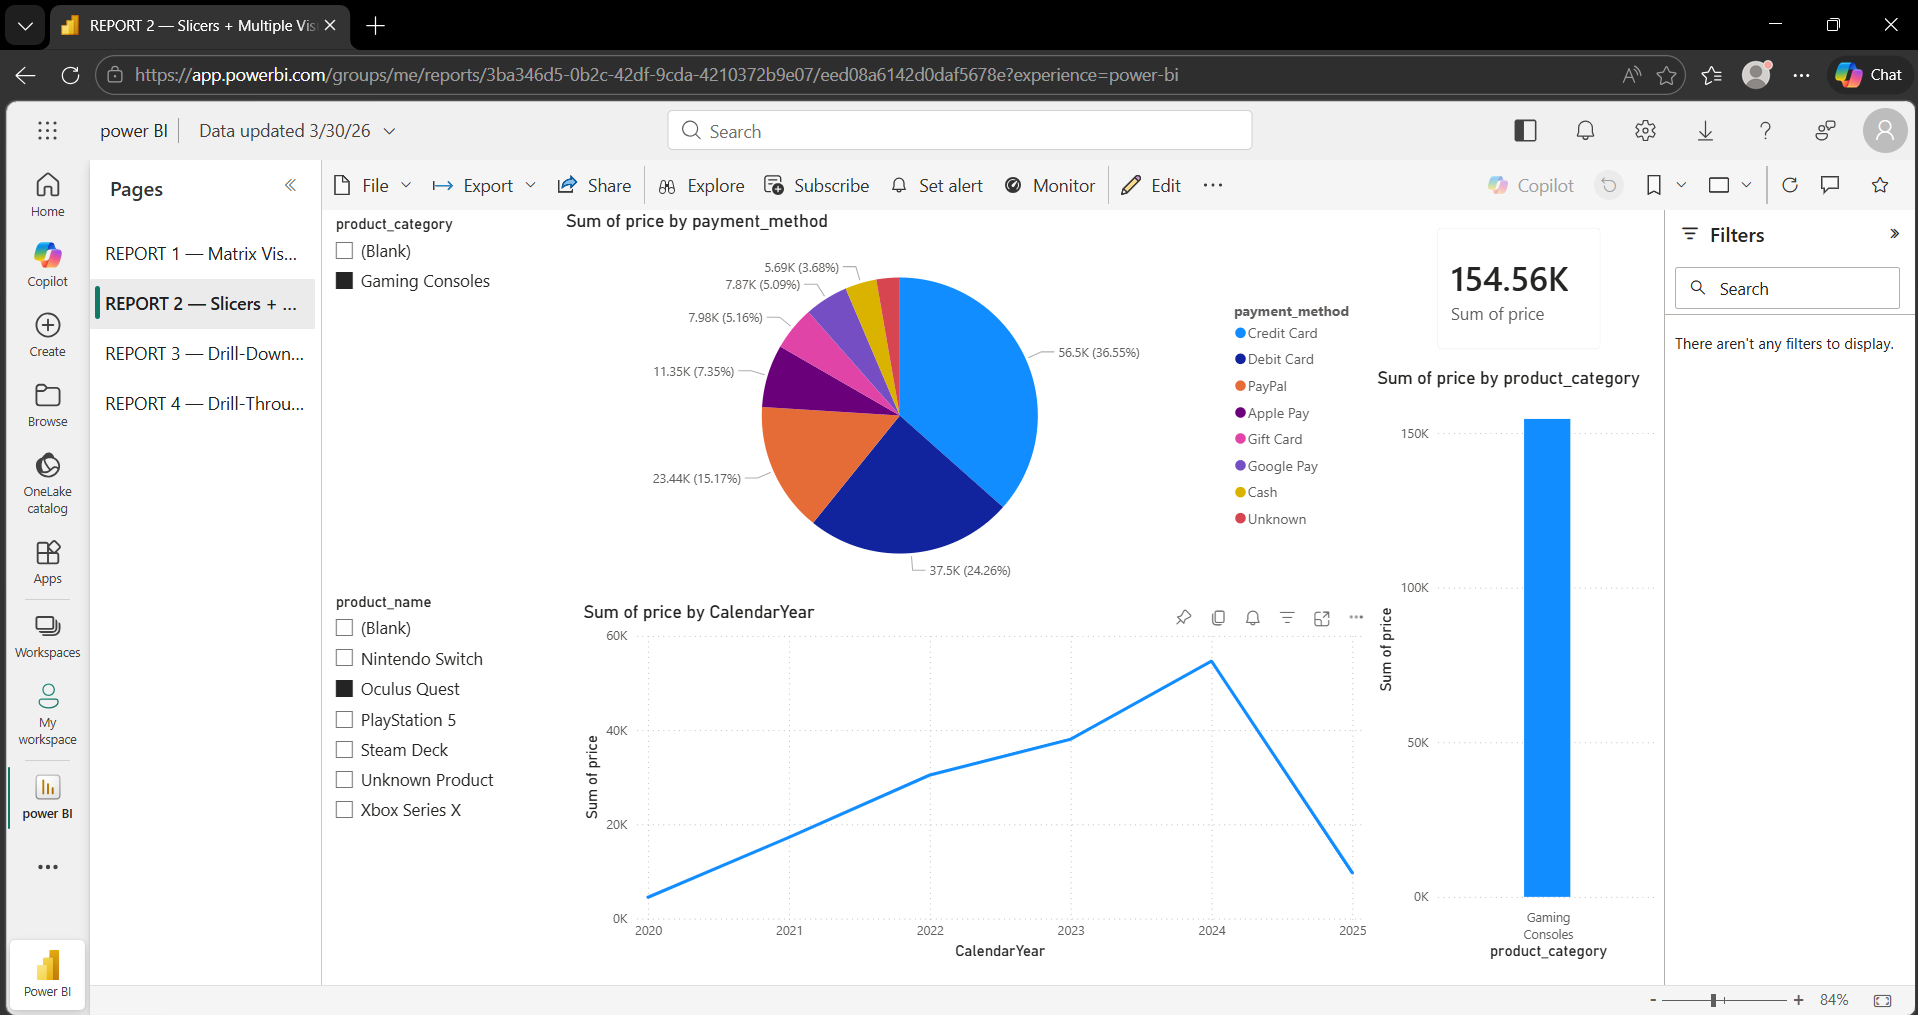

What the dashboard file says about the page in this screenshot:
{"tool":"powerbi","page":{"name":"REPORT 2 — Slicers + Multiple Visuals (Cascading)","canvas":[1280,720],"ordinal":1},"visuals":[{"type":"slicer","fields":{"Values":["DimProduct.product_category"]},"box":[0,0,233.3,340],"z":0},{"type":"slicer","fields":{"Values":["DimProduct.product_name"]},"box":[0,360,228.3,360],"z":1000},{"type":"lineClusteredColumnComboChart","fields":{"Category":["DimProduct.product_category"],"Y":["Sum(FactSales.price)"]},"box":[1001.7,150,278.3,570],"z":2000},{"type":"lineChart","fields":{"Y":["Sum(FactSales.price)"],"Category":["DimDate.CalendarYear"]},"box":[245,373.3,756.7,346.7],"z":3000},{"type":"pieChart","fields":{"Category":["DimPaymentMethod.payment_method"],"Y":["Sum(FactSales.price)"]},"box":[228.3,0,773.3,373.3],"z":4000},{"type":"cardVisual","fields":{"Data":["Sum(FactSales.price)"]},"box":[1046.7,0,190,150],"z":5000}]}

Visuals, with their boxes on the page's 1280x720 design canvas (x1, y1, x2, y2). These are canvas units, not pixel positions in the 1918x1015 screenshot, which may show the page scaled, cropped or inside an application window:
slicer - DimProduct.product_category: detection(0, 0, 233, 340)
slicer - DimProduct.product_name: detection(0, 360, 228, 720)
lineClusteredColumnComboChart - DimProduct.product_category x Sum(FactSales.price): detection(1002, 150, 1280, 720)
lineChart - Sum(FactSales.price) x DimDate.CalendarYear: detection(245, 373, 1002, 720)
pieChart - DimPaymentMethod.payment_method x Sum(FactSales.price): detection(228, 0, 1002, 373)
cardVisual - Sum(FactSales.price): detection(1047, 0, 1237, 150)
